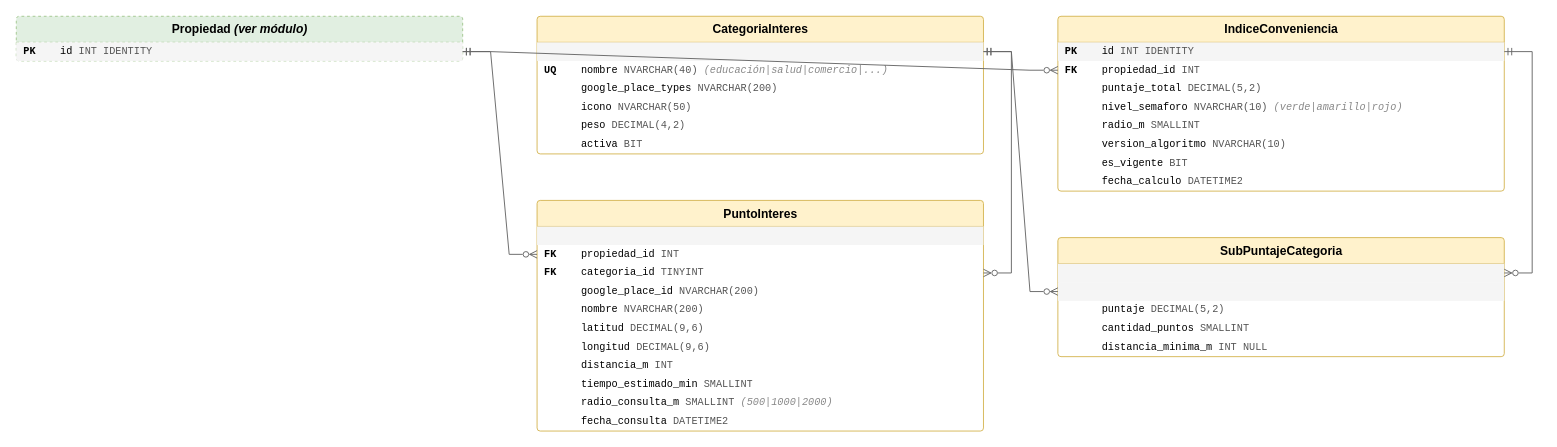
This 1557x447 diagram has some shape labels left out. Here are the shapes that lost their labels. From the top down, the centre of each, then its label:
At (760,51): "PK id TINYINT".
At (760,235): "PK id BIGINT IDENTITY".
At (1280,272): "PK,FK indice_id INT".
At (1280,291): "PK,FK categoria_id TINYINT".
